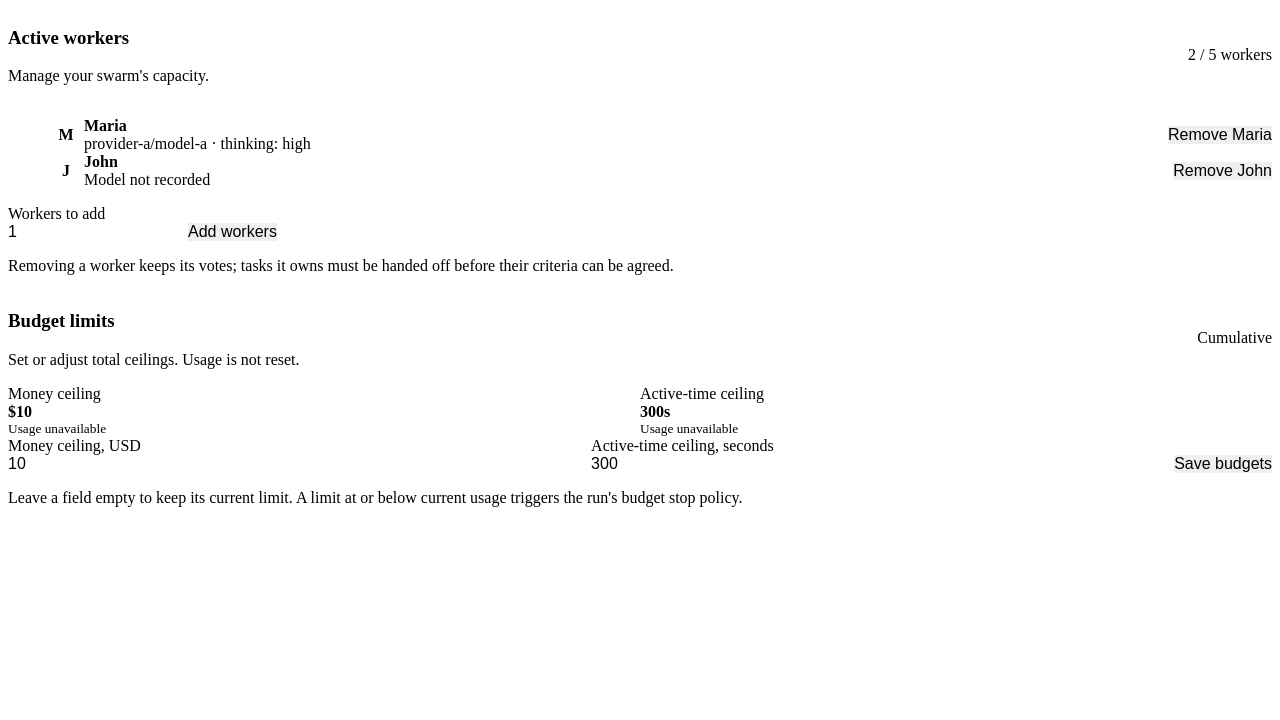
Test: rejects malformed counts and nonpositive or empty ceiling edits locally
The width and height of the screenshot is (1280, 720).
Replace the text in the field labelled "Workers to add" with "-1": (98, 232) [8,223,188,241]
Click the button "Add workers": (232, 232) [188,223,277,241]
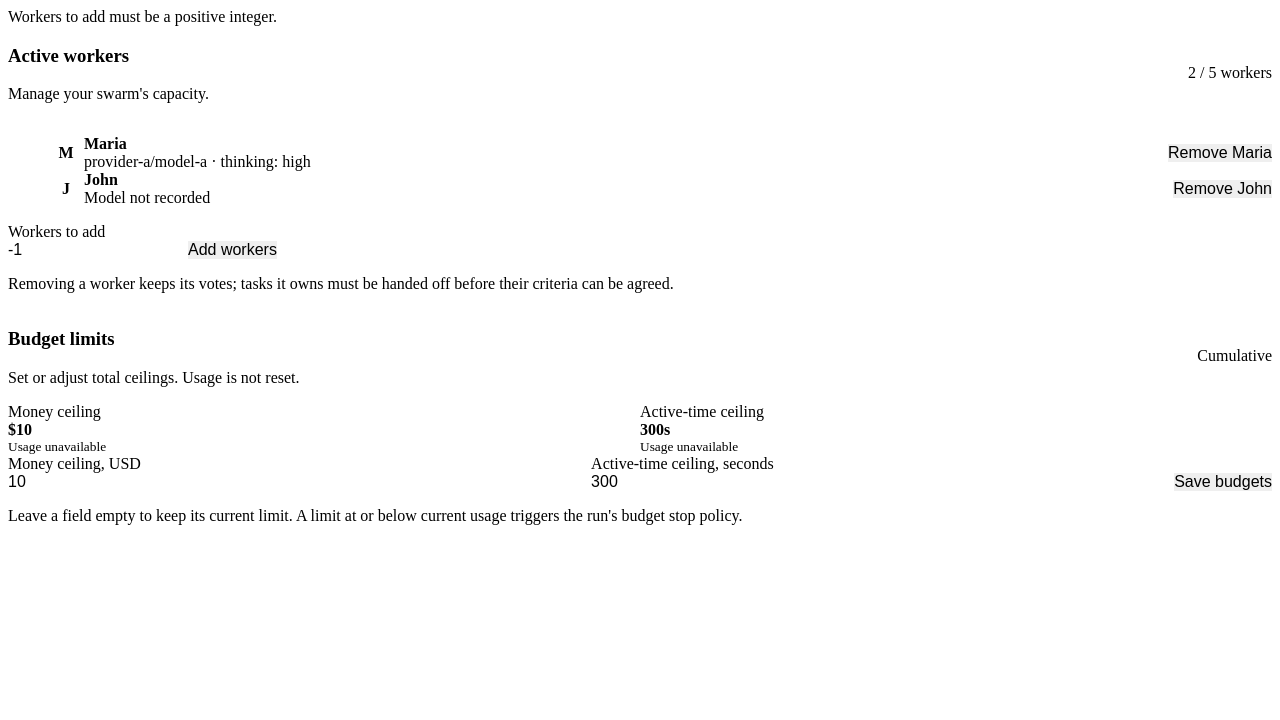
Expected: the message shows "positive integer", [8,8,277,25]
Replace the text in the field labelled "Workers to add" with "4": (98, 250) [8,241,188,259]
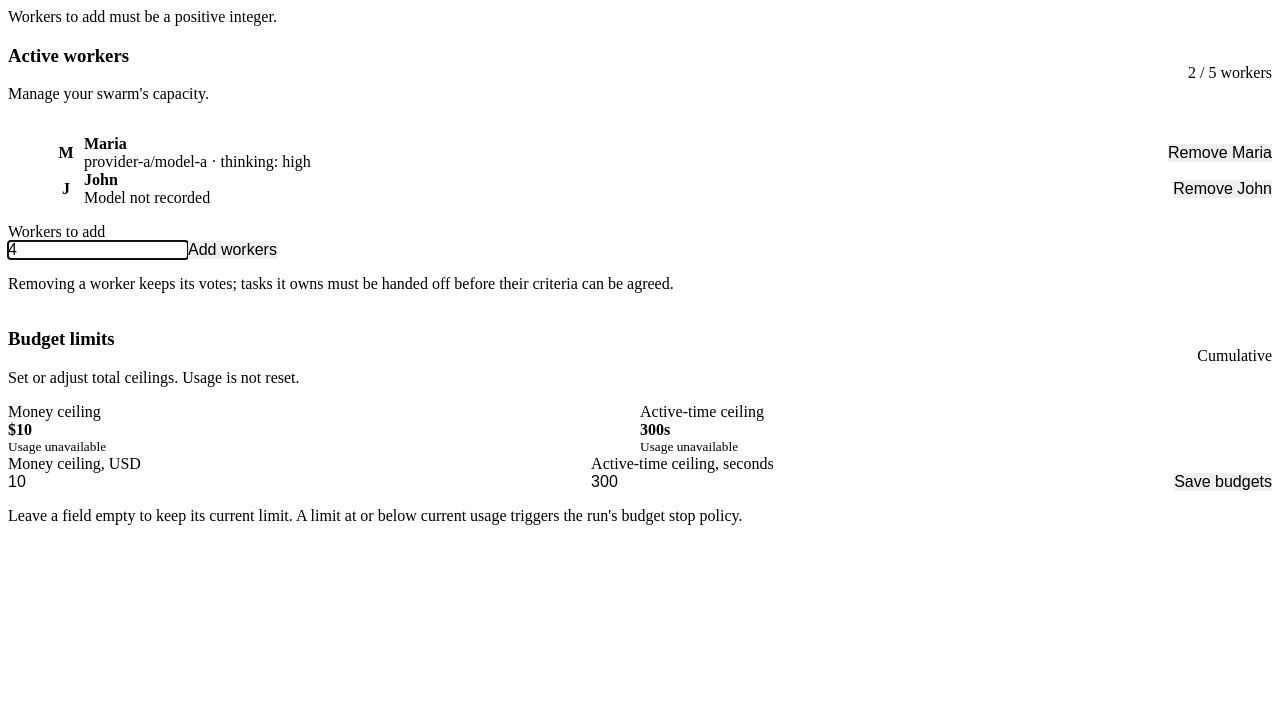
Click the button "Add workers": (232, 250) [188,241,277,259]
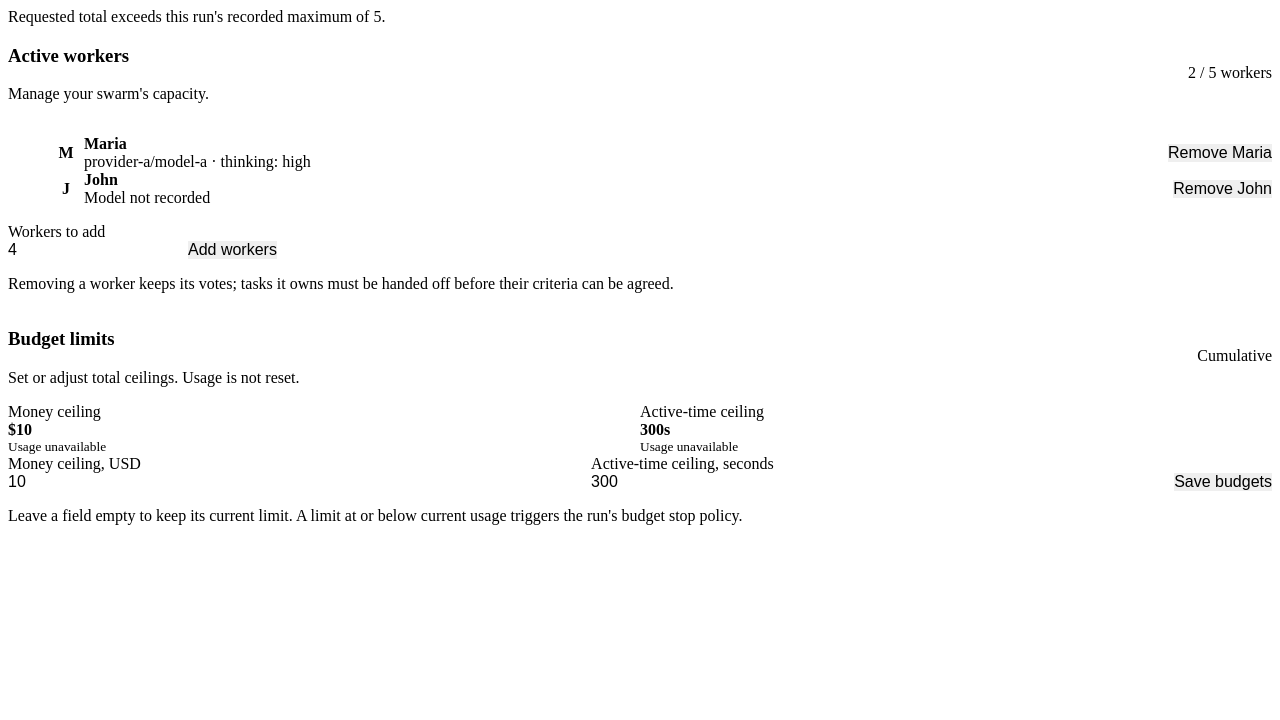
Expected: the message shows "recorded maximum of 5", [8,8,386,25]
Click the button "Save budgets": (1223, 482) [1174,473,1272,491]
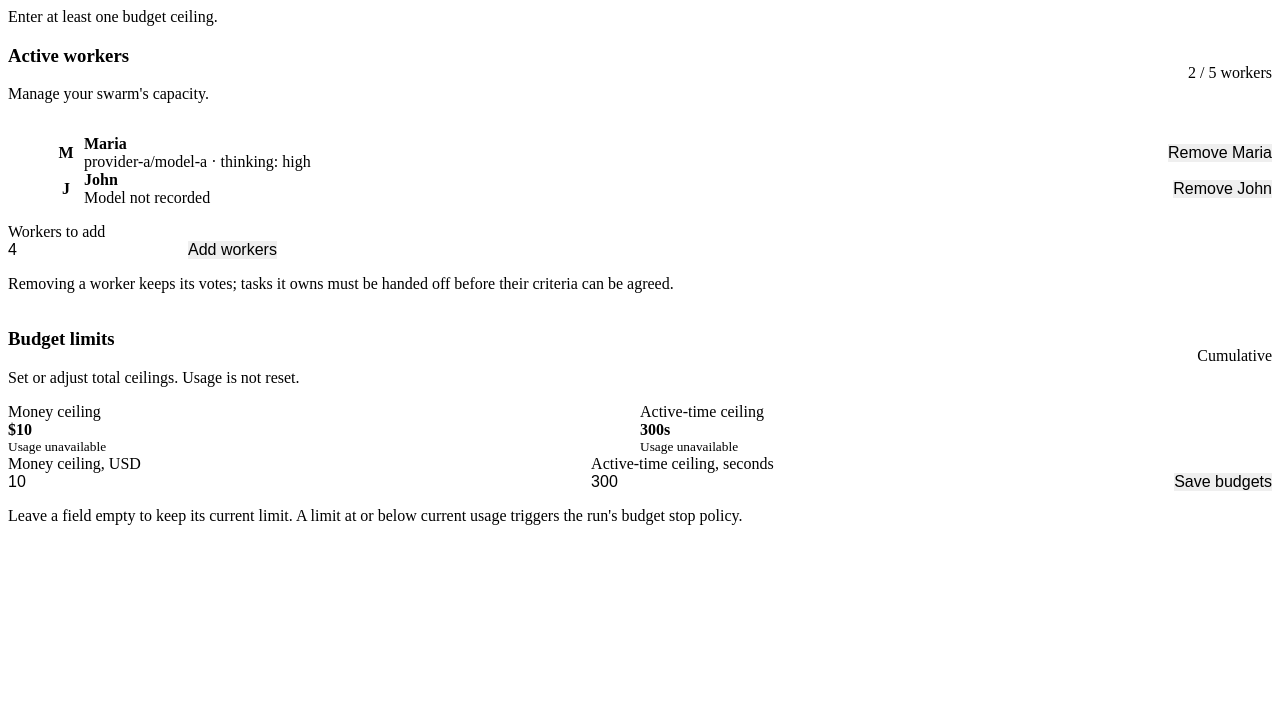
Expected: the message shows "Enter at least one budget ceiling", [8,8,218,25]
In the field named "New money ceiling, USD": (300, 482) [8,473,591,491], type "0"
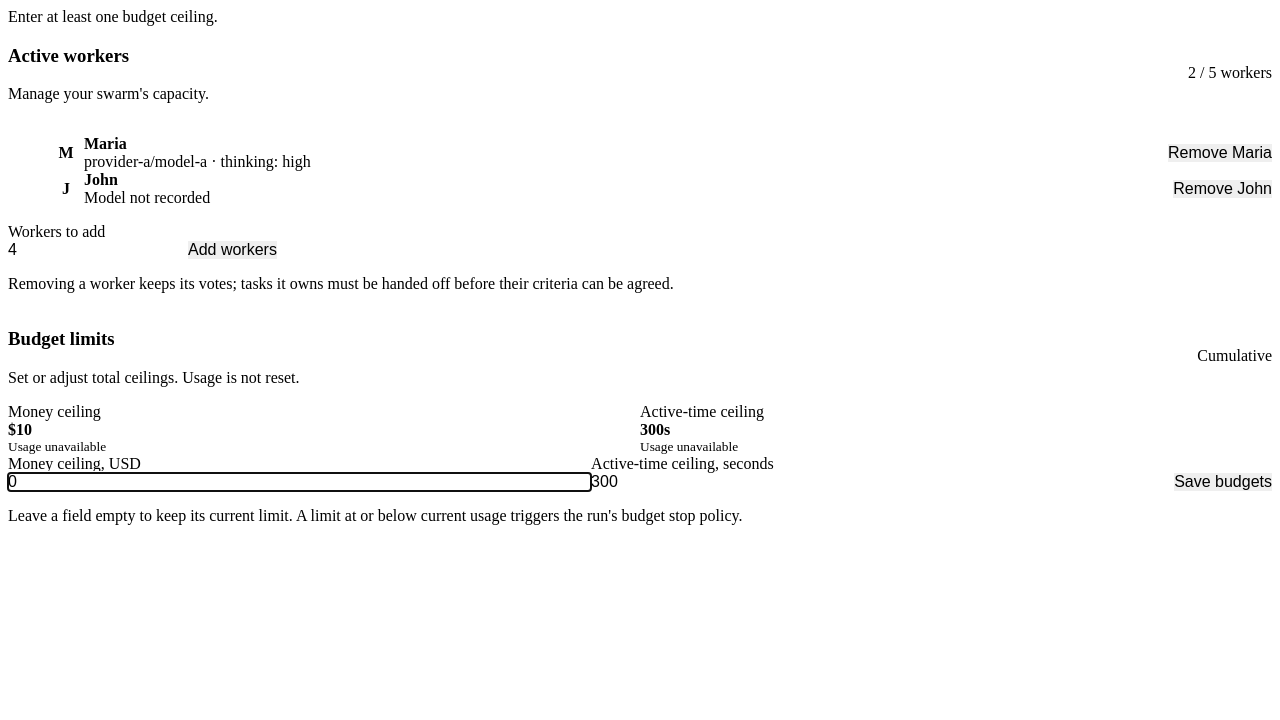
Click the button "Save budgets": (1223, 482) [1174,473,1272,491]
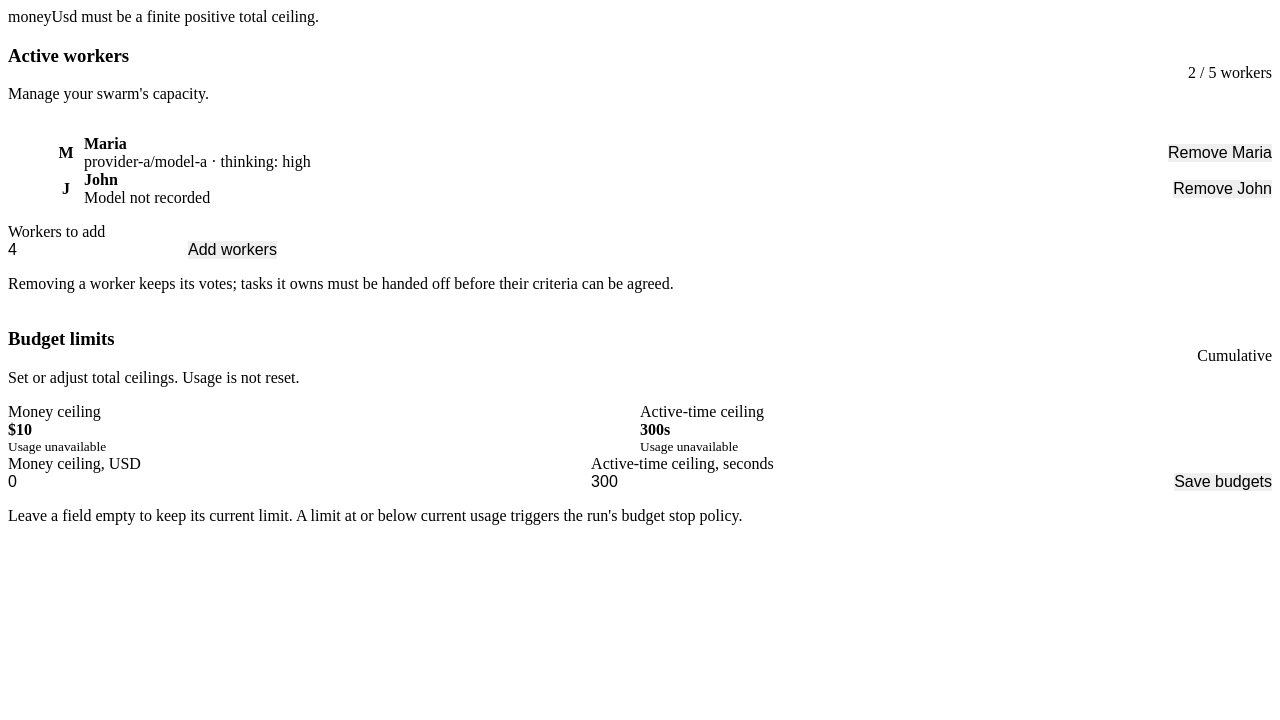
Expected: the message shows "finite positive total ceiling", [8,8,319,25]
